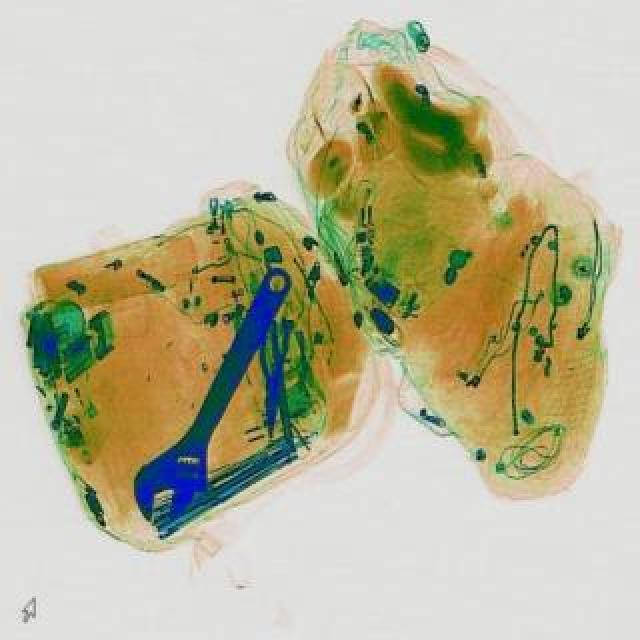scissors: (118, 252, 318, 536)
wrench: (256, 316, 292, 438)
